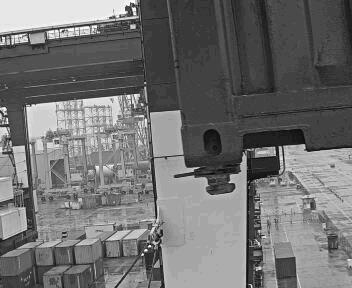twist_lock_1: (193, 160, 257, 199)
